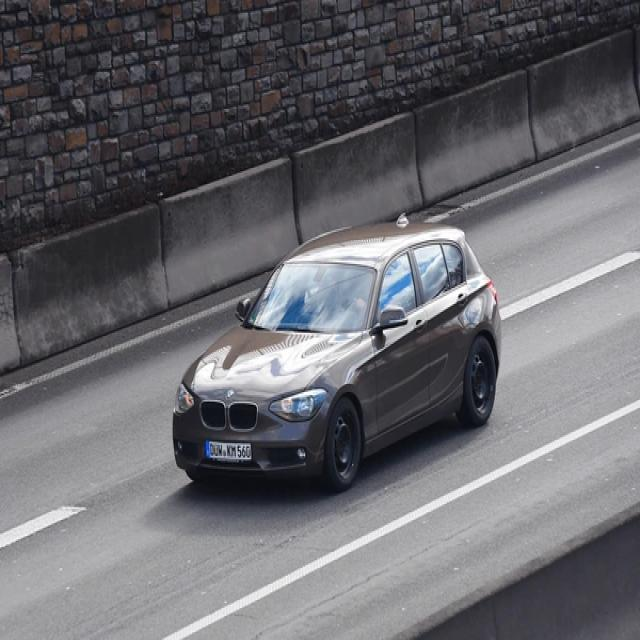bmw: (220, 387, 235, 400)
